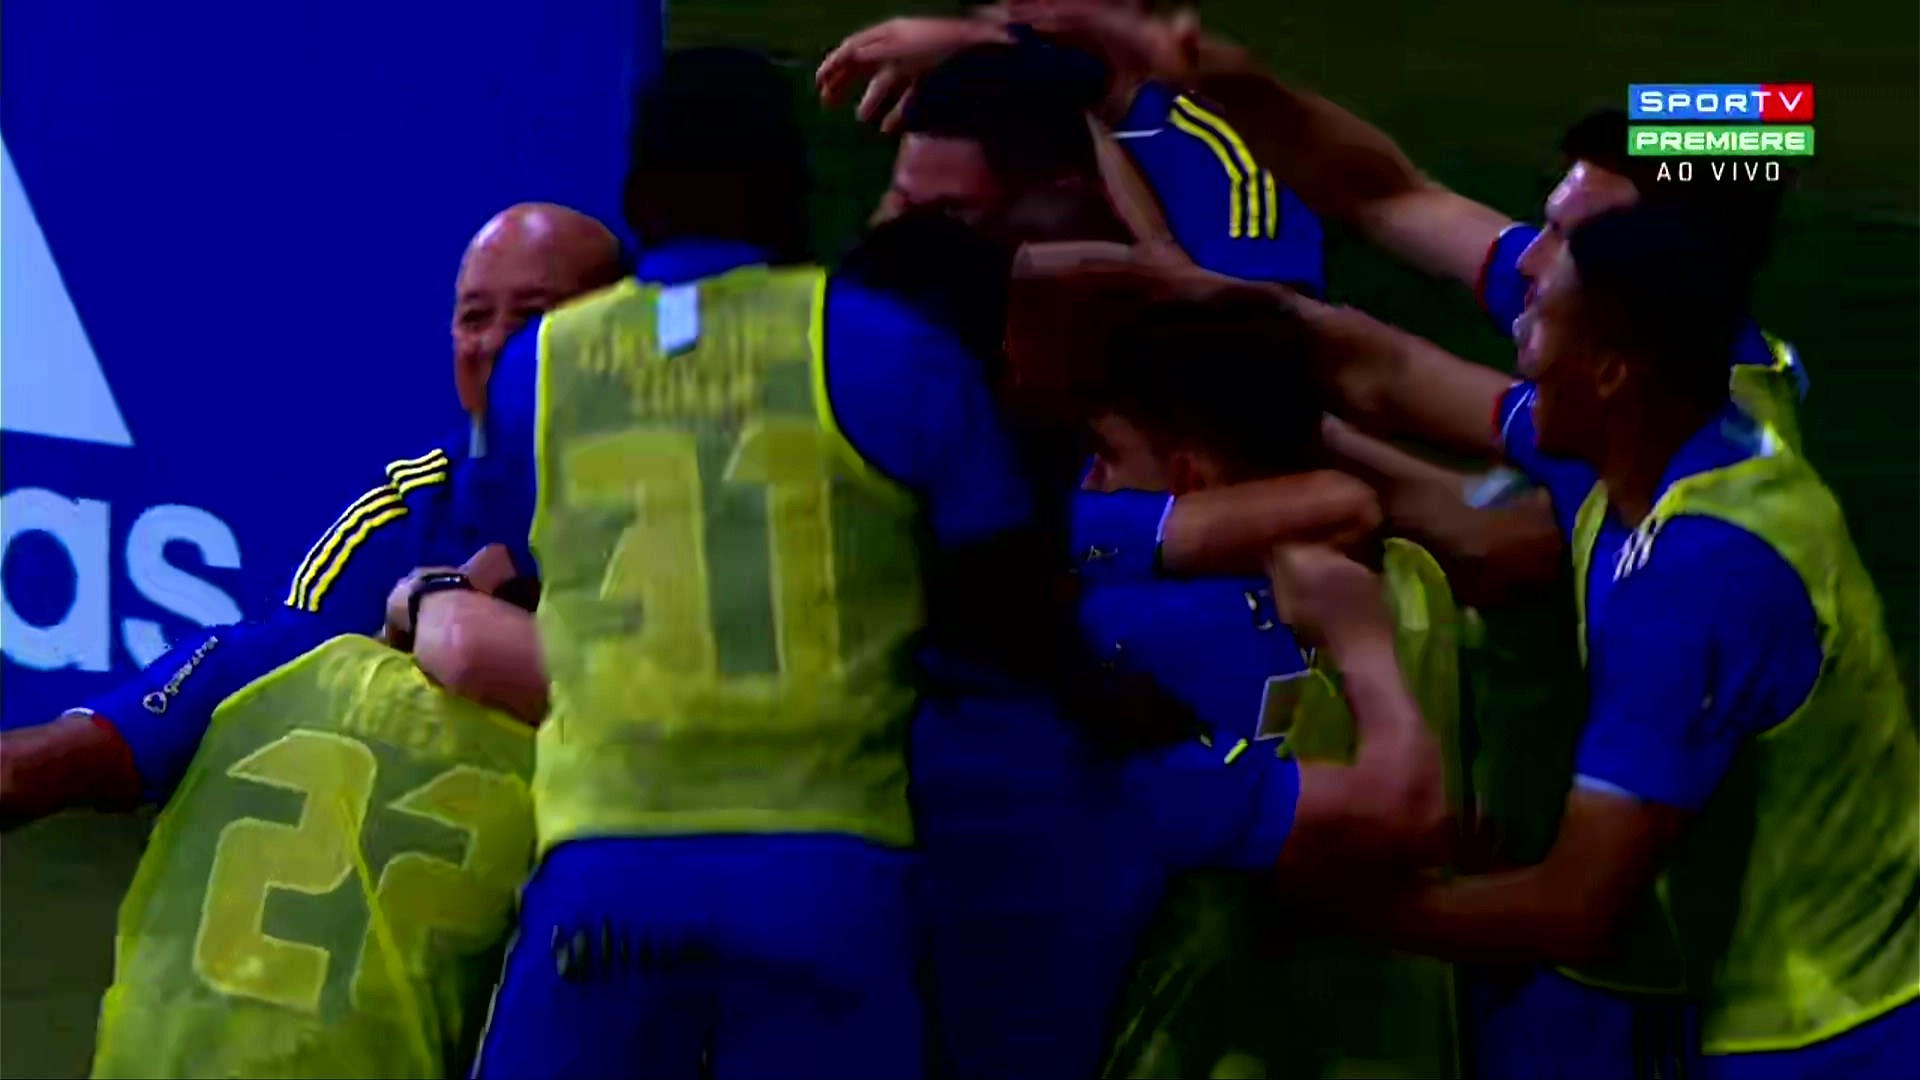SporTV: (1623, 84, 1812, 120)
SporTV3: (1629, 84, 1812, 119)
